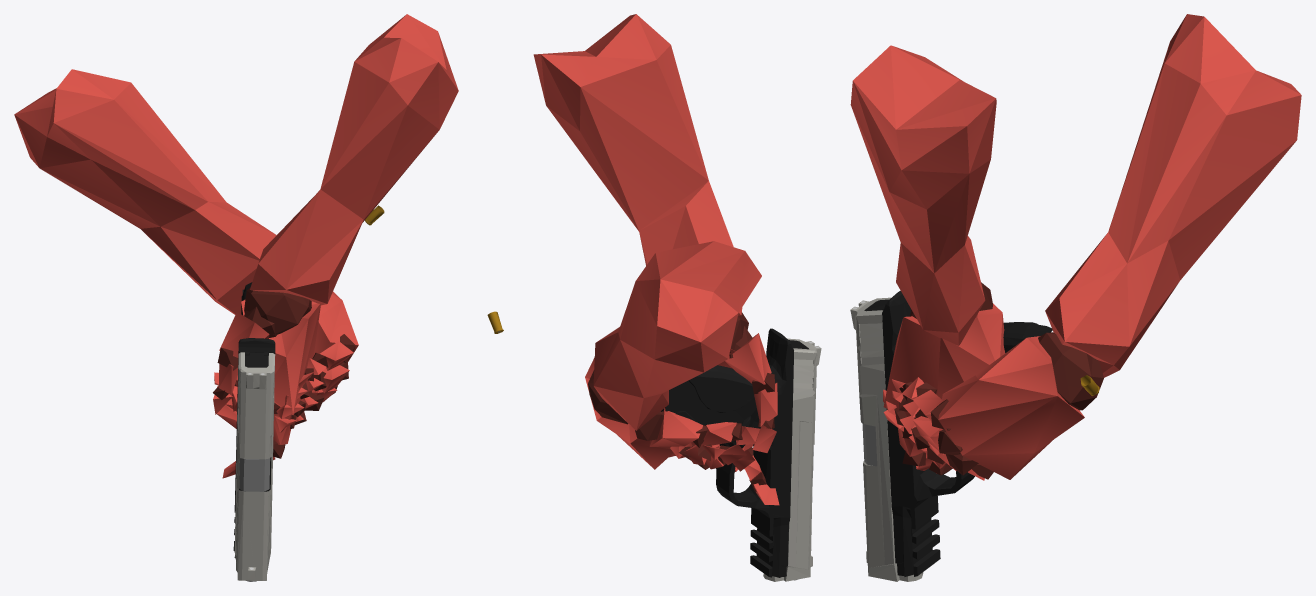
File: M&P9shootExtendLowPoly_000023.obj
3 renders of one model, left to right at view 1: azimuth 30°, elevation 25°; view 2: azimuth 150°, elevation 25°; view 3: azimuth 270°, elevation 25°, orthographic. The views are drawn at different scales.
Parts seen in each view (by area): view 1: Beta_Surface, slide_平面.002, Beta_Joints, barrel_円.001, body_平面; view 2: Beta_Surface, body_平面, slide_平面.002, Beta_Joints; view 3: Beta_Surface, body_平面, slide_平面.002, Beta_Joints.
Part boxes in pixels (<box>): Beta_Surface: <box>14,14,458,478</box>; slide_平面.002: <box>234,352,275,580</box>; Beta_Joints: <box>213,287,355,458</box>; barrel_円.001: <box>239,458,270,581</box>; body_平面: <box>233,282,275,558</box>; Beta_Surface: <box>533,14,779,505</box>; body_平面: <box>665,328,794,577</box>; slide_平面.002: <box>763,338,821,581</box>; Beta_Joints: <box>588,312,774,492</box>; Beta_Surface: <box>850,14,1301,480</box>; body_平面: <box>882,291,1052,576</box>; slide_平面.002: <box>850,297,923,581</box>; Beta_Joints: <box>894,282,1103,479</box>.
Bounding box in the file's own units: 46.82 × 74.59 × 49.25.
